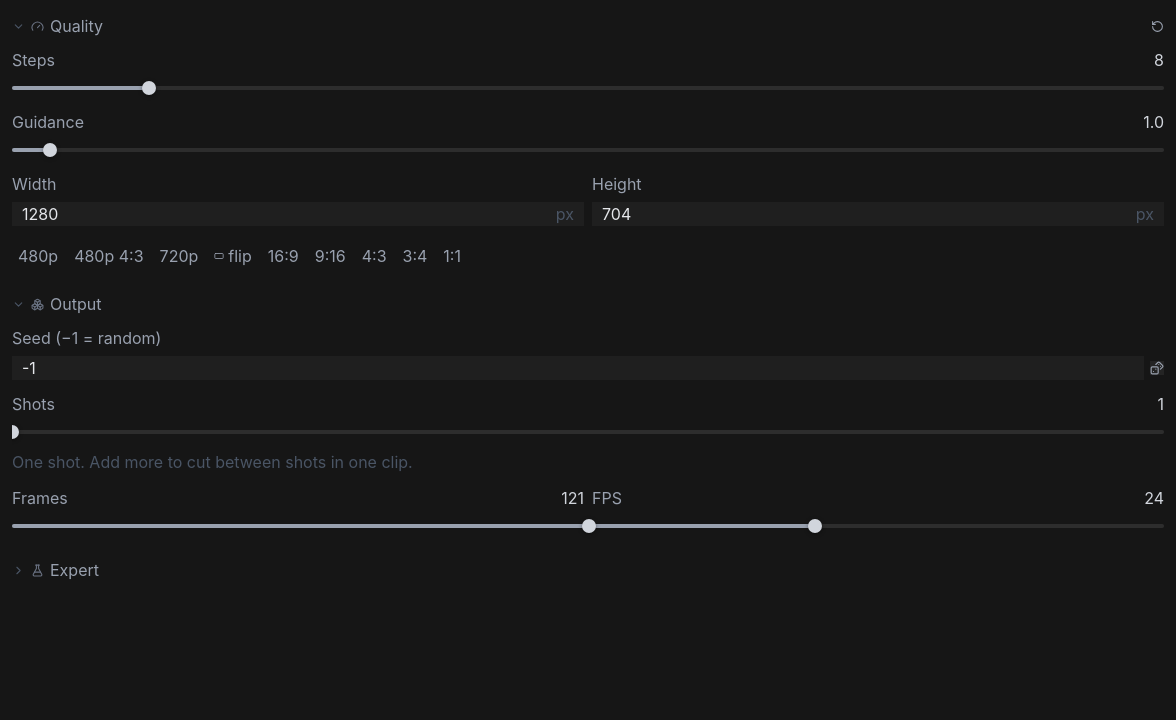
Test: Shot-Liste › mehr Shots geben je ein Feld, Shot 1 ist der Prompt
Set the slider labelled "Shots 1" to "3" at (33, 404), box [12,392,1164,442]
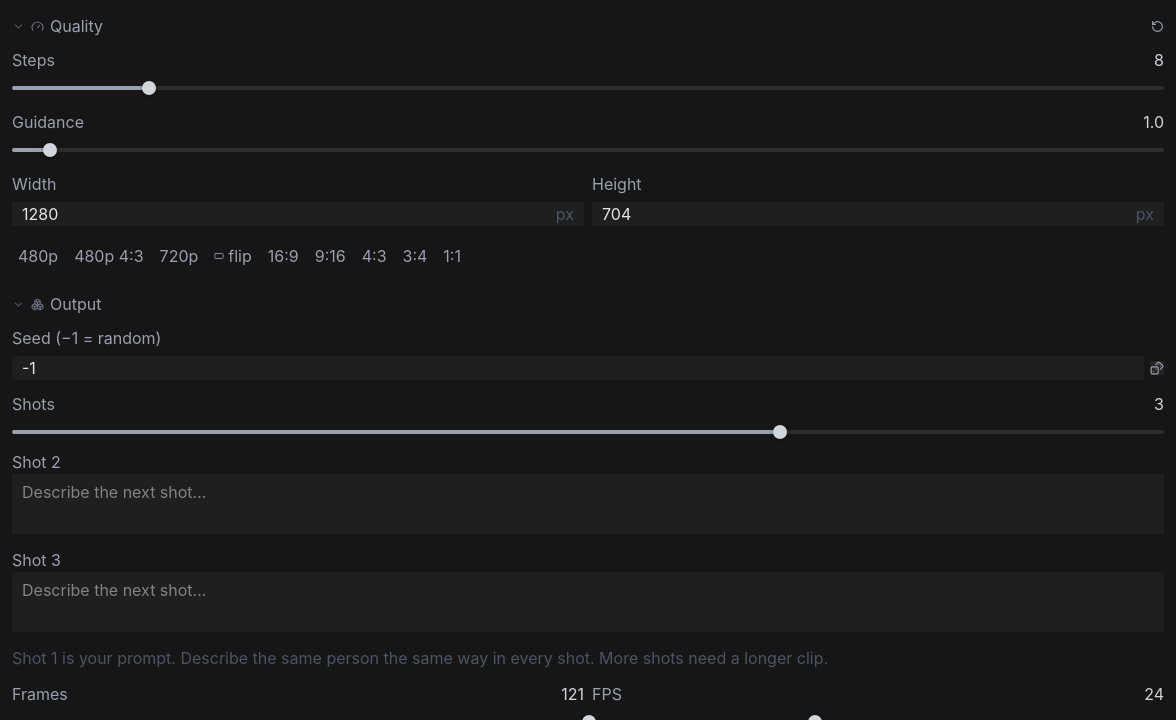
Expected: the text "Shot 2" is shown, [12,452,61,472]
Expected: the text "Shot 3" is shown, [12,550,61,570]
Expected: the text "Shot 1 is your prompt" is shown, [12,648,828,668]
